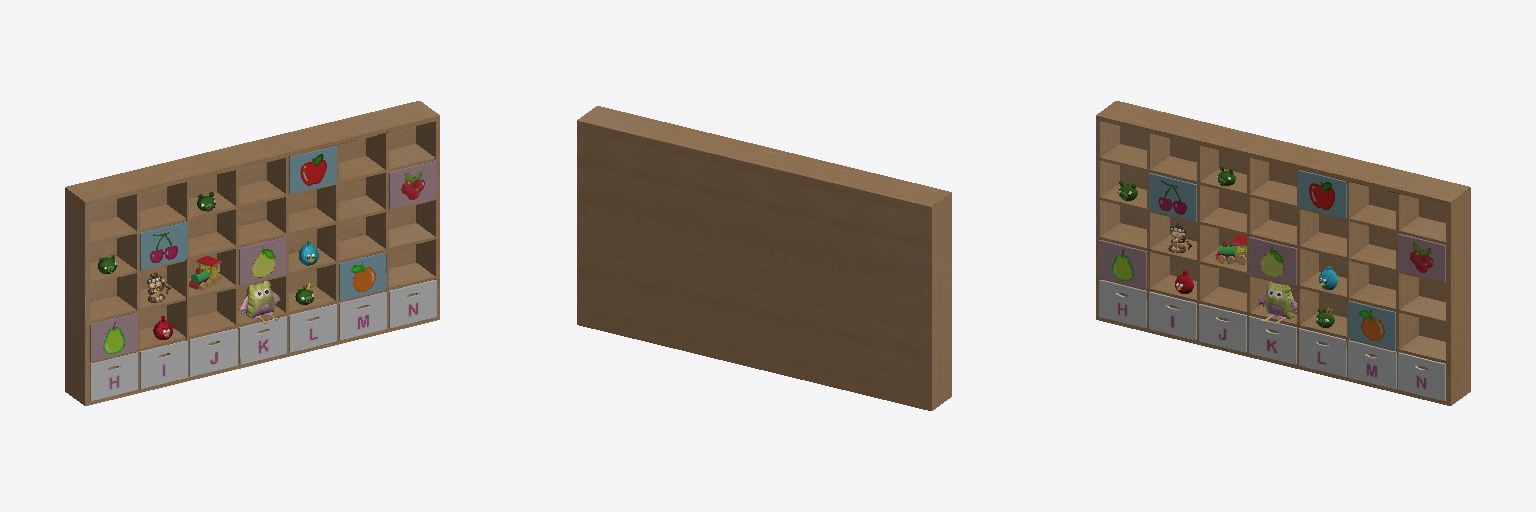
3 views of the same model, side by side, from view 1: azimuth 30°, elevation 25°; view 2: azimuth 150°, elevation 25°; view 3: azimuth 330°, elevation 25° (orthographic).
Parts seen in each view (by area): view 1: solid_008, solid_018, solid_017, solid_013, solid_032, solid_010; view 2: solid_008; view 3: solid_008, solid_018, solid_017, solid_013, solid_032, solid_010.
Part boxes in pixels (x1,y1,x2,y2): solid_008: (65,101,439,405); solid_018: (90,280,436,400); solid_017: (90,161,436,361); solid_013: (140,146,386,300); solid_032: (98,192,313,304); solid_010: (301,154,326,185); solid_008: (577,106,951,410); solid_008: (1096,101,1470,405); solid_018: (1099,280,1445,400); solid_017: (1099,234,1445,288); solid_013: (1149,170,1395,349); solid_032: (1118,167,1334,327); solid_010: (1309,182,1334,209).
Size of the model in its own units: 1.9 by 1.05 by 0.2556.
Materials: 1 (1 with a texture image).